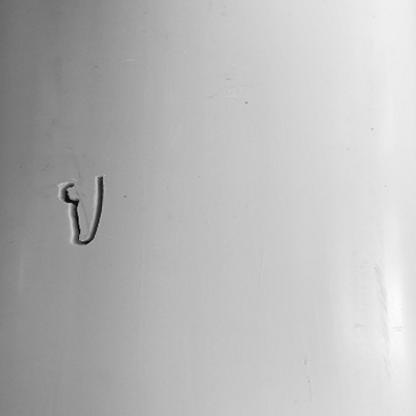fengxi: (59, 176, 106, 246)
